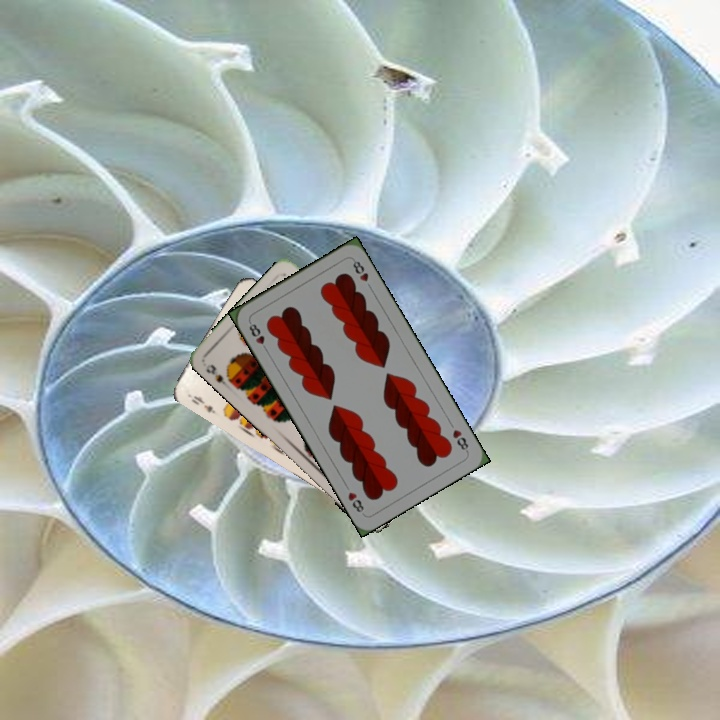E9: (187, 392, 218, 416)
H8: (245, 318, 271, 355), (448, 425, 471, 455)
S9: (202, 360, 236, 392)
